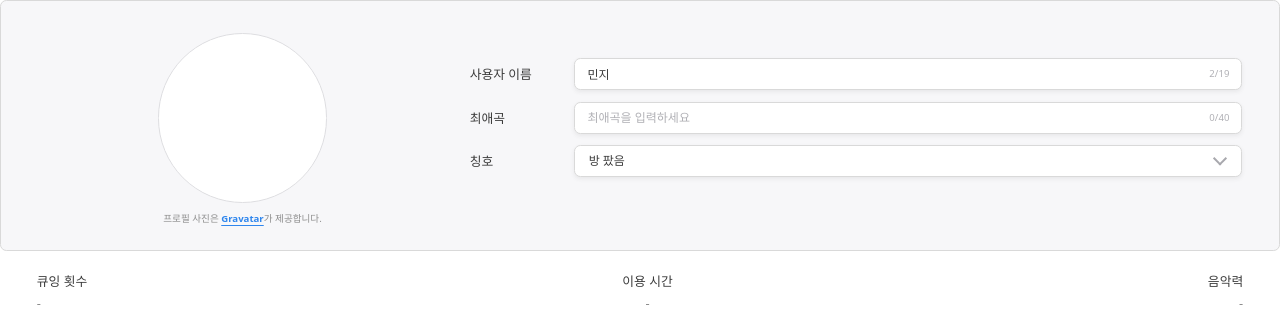
Test: 설정 칭호 목록 › 내가 획득한 칭호만 portal 목록에 표시하고 현재 대표 칭호를 선택한다
Step 1. Click the dropdown named "칭호" → point(607, 160), box [574, 145, 1242, 177]
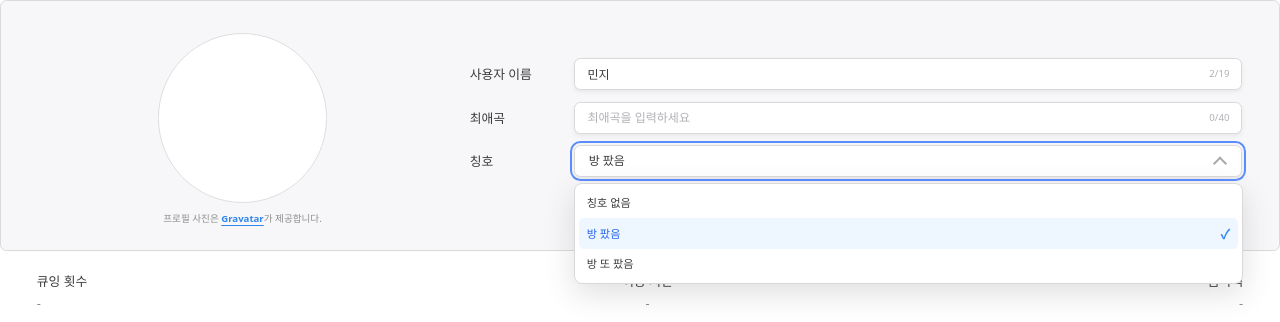
Expected: the options read "칭호 없음", "방 팠음✓", "방 또 팠음", in this order, [587, 195, 631, 210]; [579, 218, 1238, 249]; [587, 256, 634, 272]
Expected: the option "방 또 팠음" is enabled, [587, 256, 634, 272]
